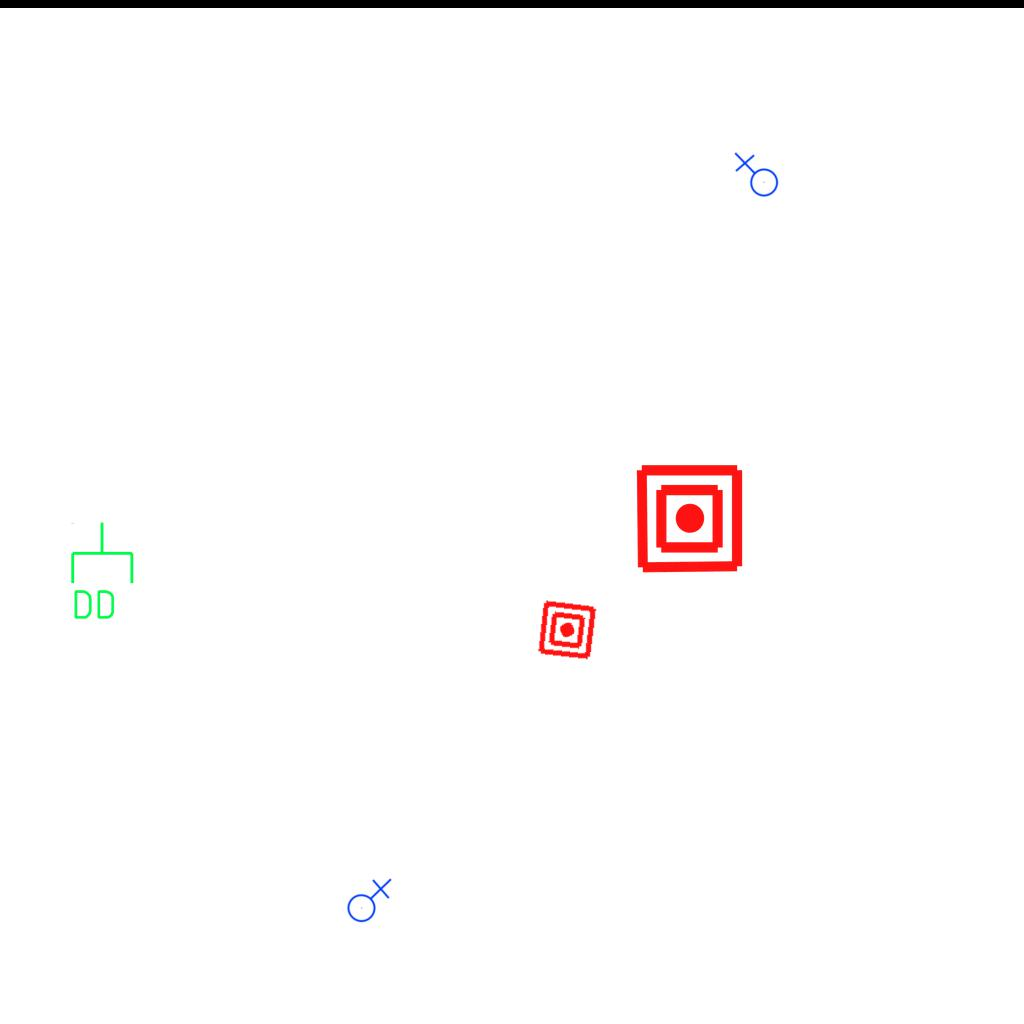Datenanschluss_zweifach: (67, 520, 136, 623)
Elektroanschluss_allgemein_230V_Geraeteanschlussdose_230V: (343, 876, 392, 923), (732, 152, 779, 201)
NAM-Nichtautomatischer_Melder: (633, 462, 746, 575), (535, 598, 599, 662)
